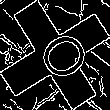O_SW: (22, 23, 88, 87)
